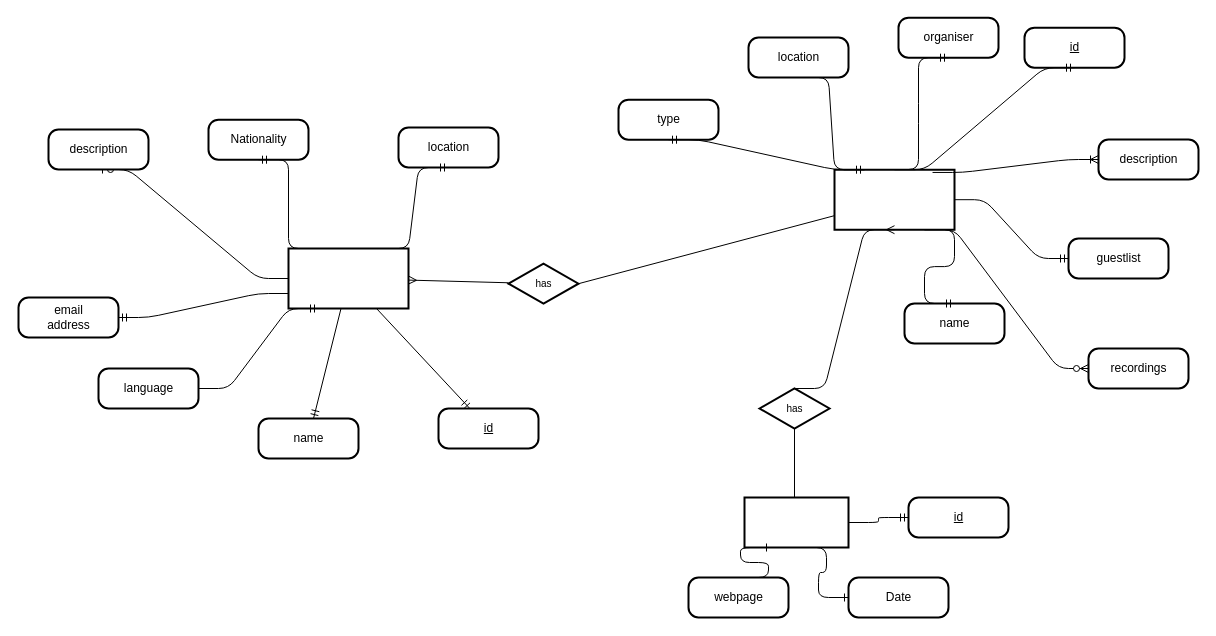
Image size: 1216x636. Some labels were removed from this diagram. Each missing label, with the centre of its shape:
Announcement: point (796, 522)
Attendee: point (348, 278)
Event: point (894, 199)
